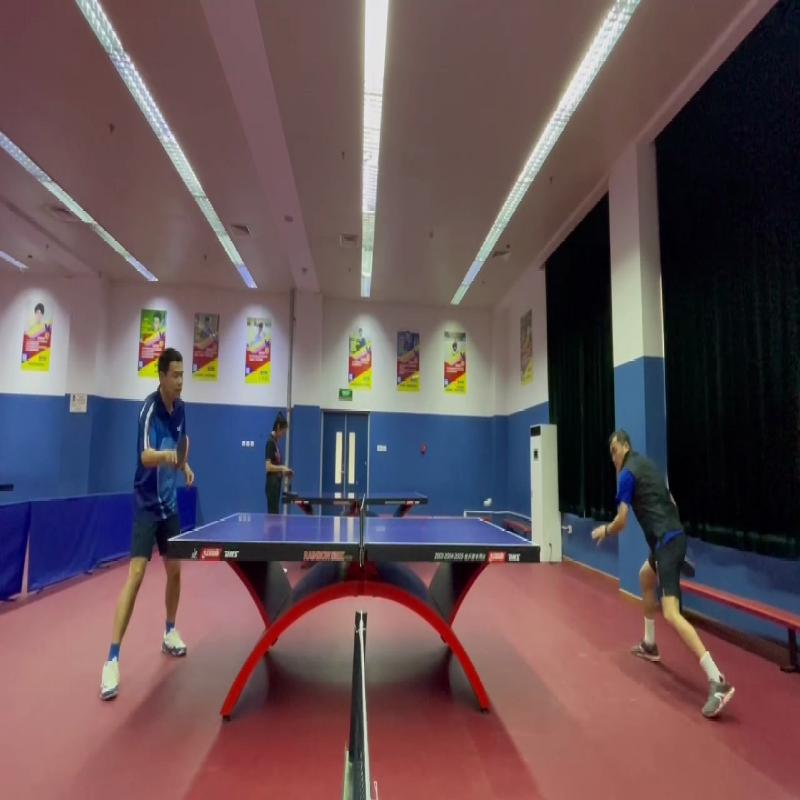bats: (166, 426, 194, 476)
